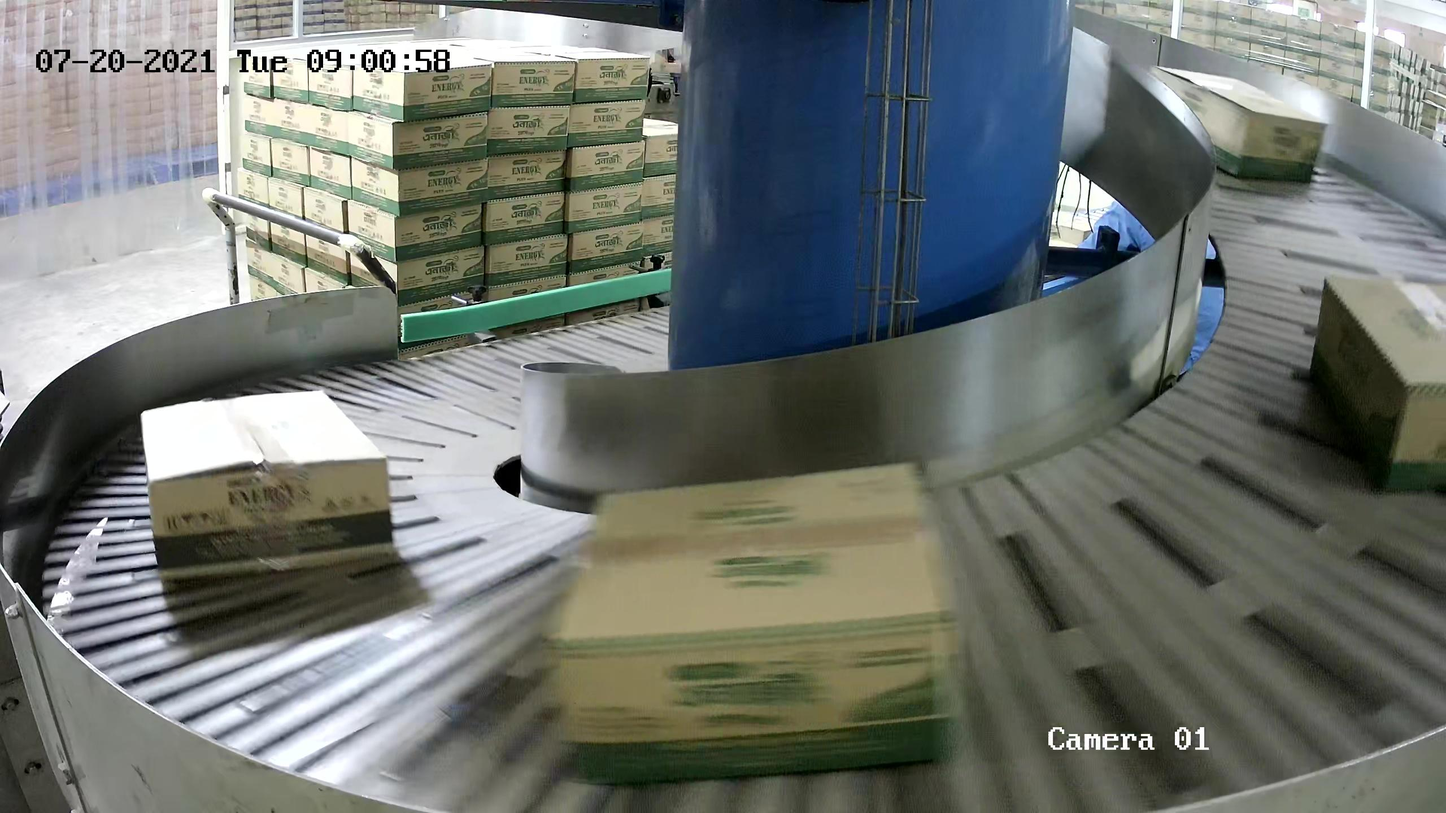Box: (547, 461, 968, 788), (140, 388, 395, 586), (1310, 274, 1446, 494), (1146, 64, 1331, 184)
